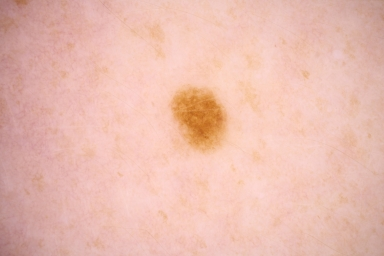melanoma: (172, 89, 229, 153)
